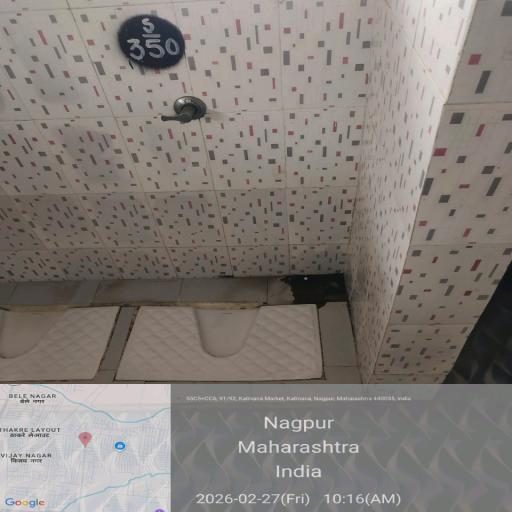clean_floor: (0, 3, 447, 265)
partial_dirty_floor: (0, 276, 362, 384)
